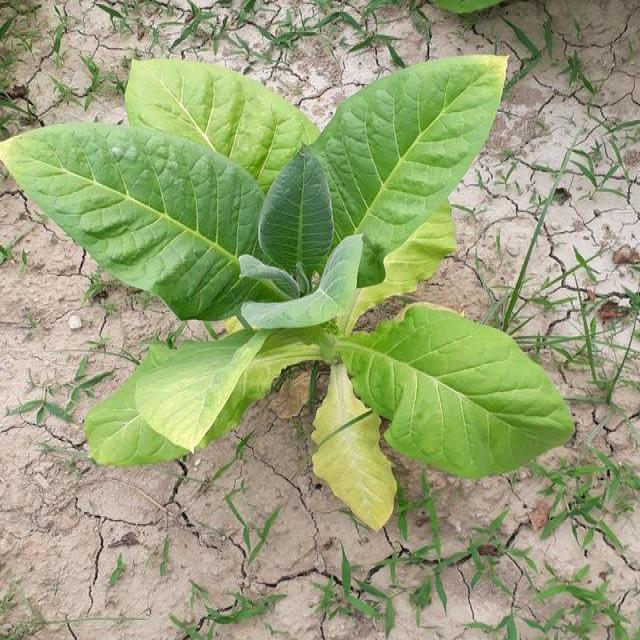crop: (0, 59, 579, 530)
